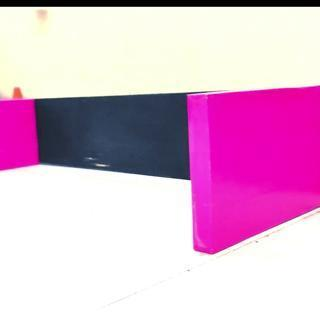xparking: (187, 94, 320, 240), (0, 100, 36, 164)
